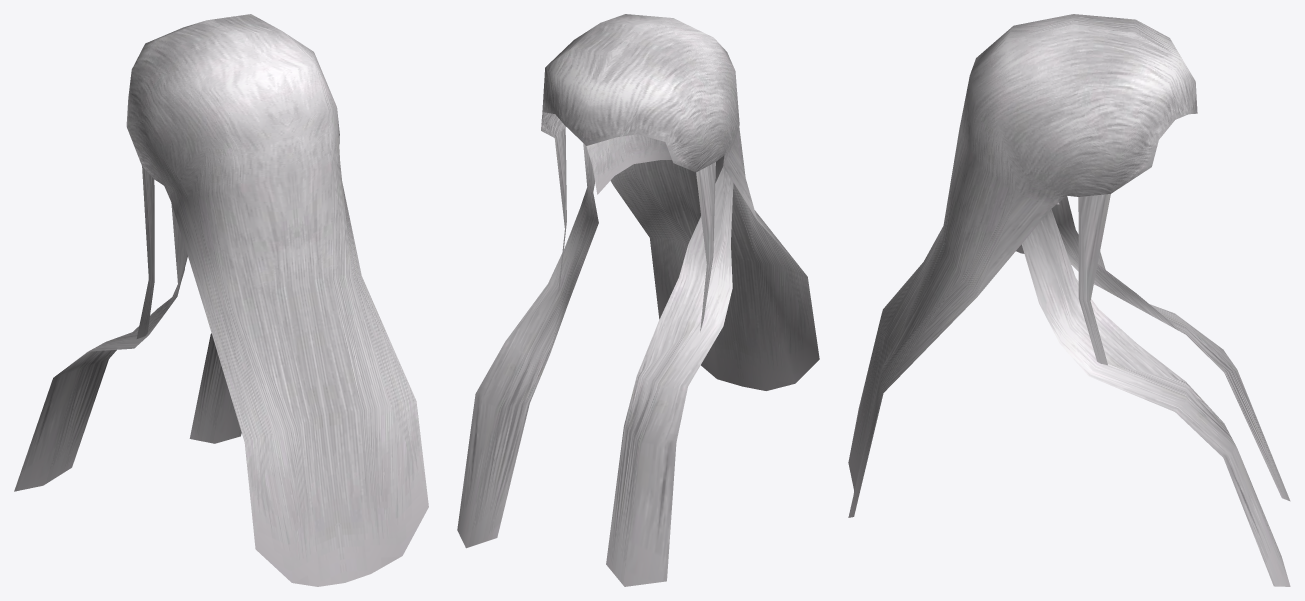
Rendered from Martial arts male hair 63.glb.
3 views of the same model, side by side, from view 1: azimuth 30°, elevation 25°; view 2: azimuth 150°, elevation 25°; view 3: azimuth 270°, elevation 25° (orthographic). The views are drawn at different scales.
Visible parts, largest first — view 1: 武侠男头发63_0; view 2: 武侠男头发63_0; view 3: 武侠男头发63_0.
Part boxes in pixels (x1,y1,x2,y2): 武侠男头发63_0: (14, 14, 428, 586); 武侠男头发63_0: (457, 14, 819, 586); 武侠男头发63_0: (848, 14, 1290, 586).
Bounding box in the file's own units: 0.2226 × 0.4663 × 0.3604.
Materials: 1 (1 with a texture image).
